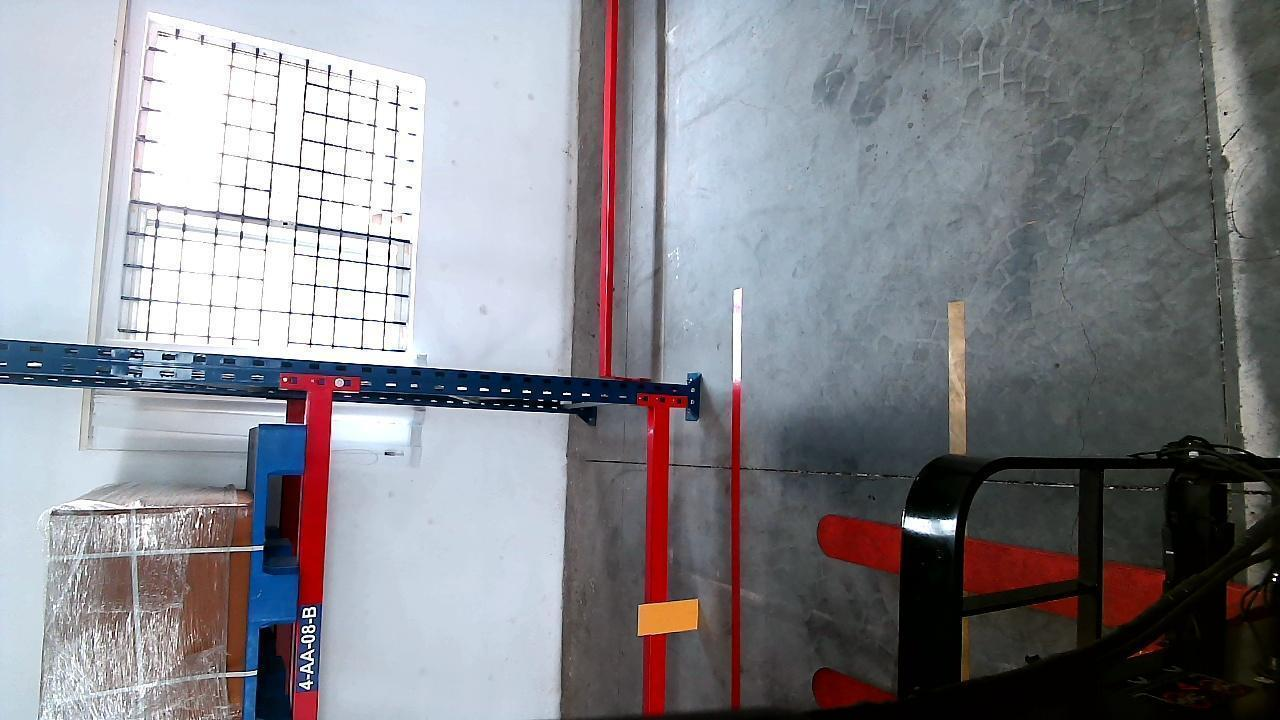red_line: (726, 287, 748, 713)
yellow_line: (947, 296, 967, 450)
